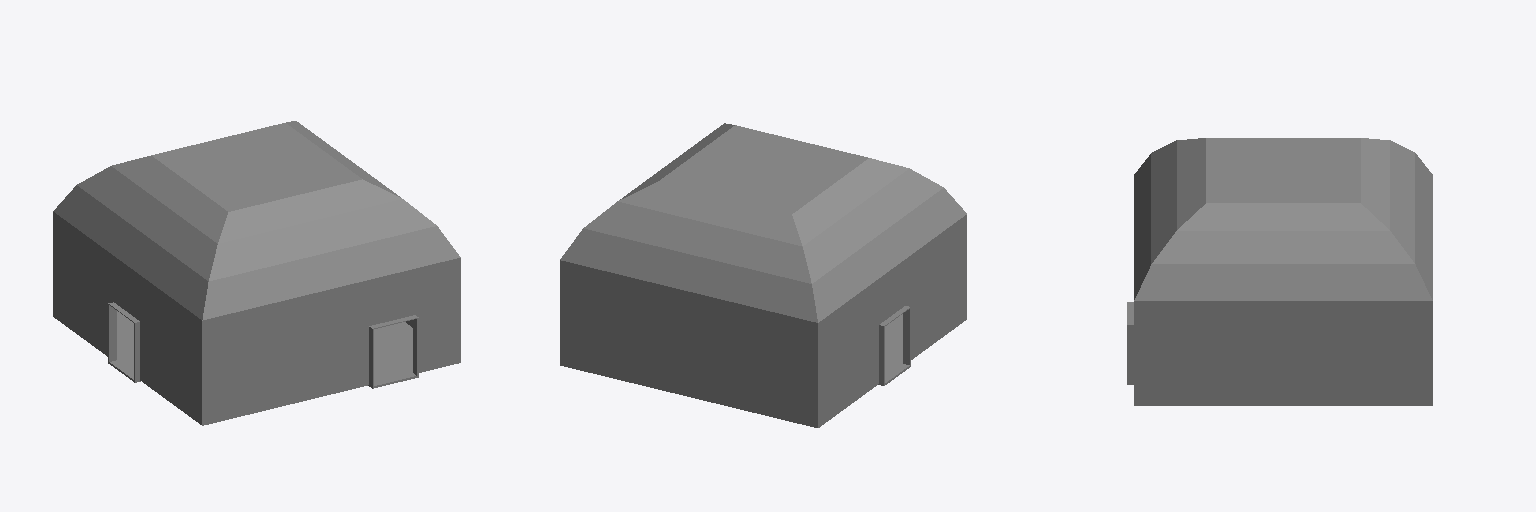
File: main_room.obj
3 renders of one model, left to right at view 1: azimuth 30°, elevation 25°; view 2: azimuth 150°, elevation 25°; view 3: azimuth 270°, elevation 25°, orthographic.
Parts seen in each view (by area): view 1: Object017; view 2: Object017; view 3: Object017.
Part boxes in pixels (x1,y1,x2,y2): Object017: (53, 121, 460, 425); Object017: (560, 123, 966, 427); Object017: (1127, 138, 1432, 405).
Bounding box in the file's own units: 1141 × 717 × 1144.